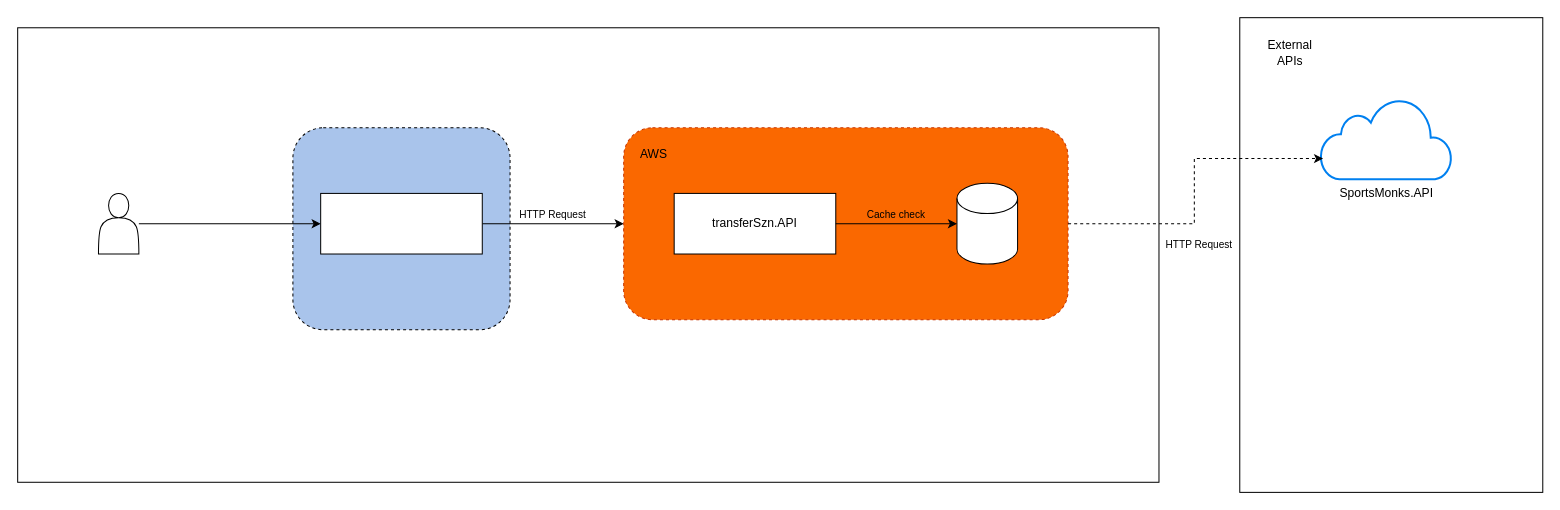
Some shapes in this 1560 by 510 pixel diagram are drawn without their labels. Each missing label, with the box of its shape:
Cache: (956, 182, 1018, 264)
ui.application.transferSzn: (320, 192, 482, 254)
